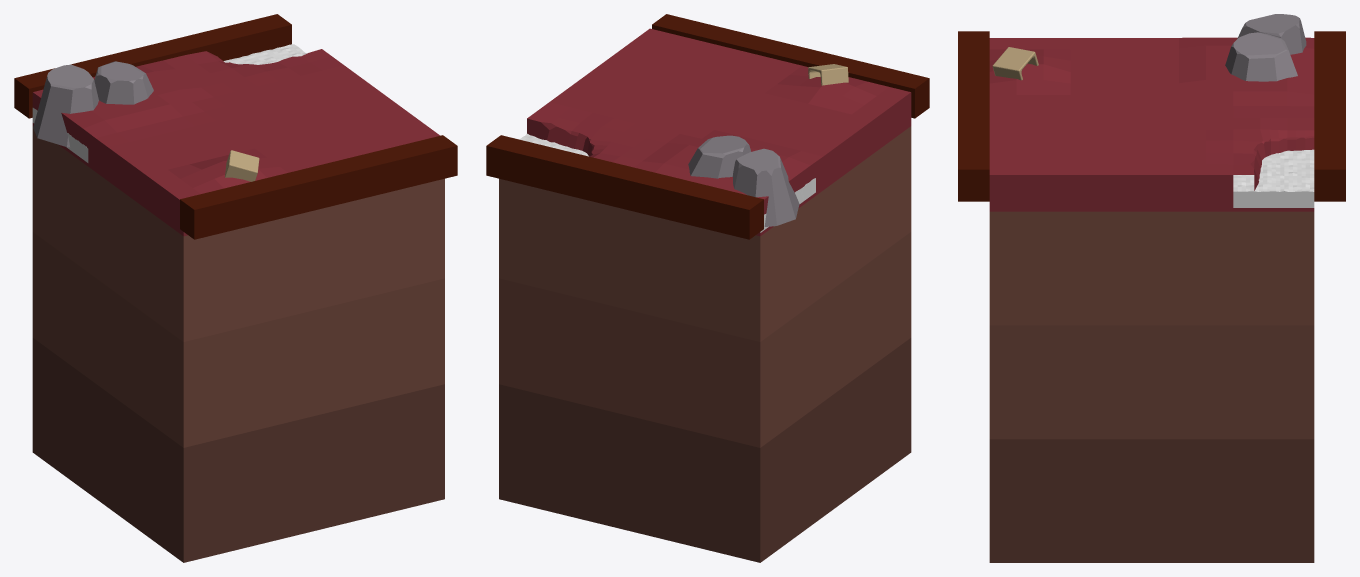
File: Plano3.fbx
The picture shows the model from 3 angles, left to right: view 1: azimuth 30°, elevation 25°; view 2: azimuth 150°, elevation 25°; view 3: azimuth 270°, elevation 25°; orthographic projection. The views are drawn at different scales.
Visible parts, largest first — view 1: Plane.052, Plane.032, Cube.1713, 2Pedras.001, 2Pedras.002, Plane.035, Capsula; view 2: Plane.052, Plane.032, Cube.1713, 2Pedras.001, 2Pedras.002, Plane.035, Capsula; view 3: Plane.052, Plane.032, Cube.1713, Plane.035, 2Pedras.002, 2Pedras.001, Capsula.
Part boxes in pixels (x1=…): Plane.052: x1=32, y1=126, x2=444, y2=562; Plane.032: x1=32, y1=49, x2=439, y2=236; Cube.1713: x1=14, y1=14, x2=457, y2=239; 2Pedras.001: x1=33, y1=64, x2=98, y2=147; 2Pedras.002: x1=94, y1=61, x2=153, y2=104; Plane.035: x1=32, y1=44, x2=306, y2=162; Capsula: x1=225, y1=150, x2=259, y2=181; Plane.052: x1=499, y1=126, x2=911, y2=562; Plane.032: x1=527, y1=28, x2=911, y2=236; Cube.1713: x1=486, y1=14, x2=929, y2=239; 2Pedras.001: x1=732, y1=148, x2=799, y2=226; 2Pedras.002: x1=688, y1=135, x2=750, y2=178; Plane.035: x1=519, y1=133, x2=815, y2=232; Capsula: x1=808, y1=64, x2=848, y2=85; Plane.052: x1=989, y1=211, x2=1314, y2=562; Plane.032: x1=989, y1=37, x2=1314, y2=211; Cube.1713: x1=958, y1=31, x2=1345, y2=201; Plane.035: x1=1233, y1=149, x2=1314, y2=207; 2Pedras.002: x1=1225, y1=32, x2=1297, y2=81; 2Pedras.001: x1=1237, y1=14, x2=1306, y2=54; Capsula: x1=992, y1=47, x2=1038, y2=80.
Size of the model in its own units: 847 by 1132 by 955.
